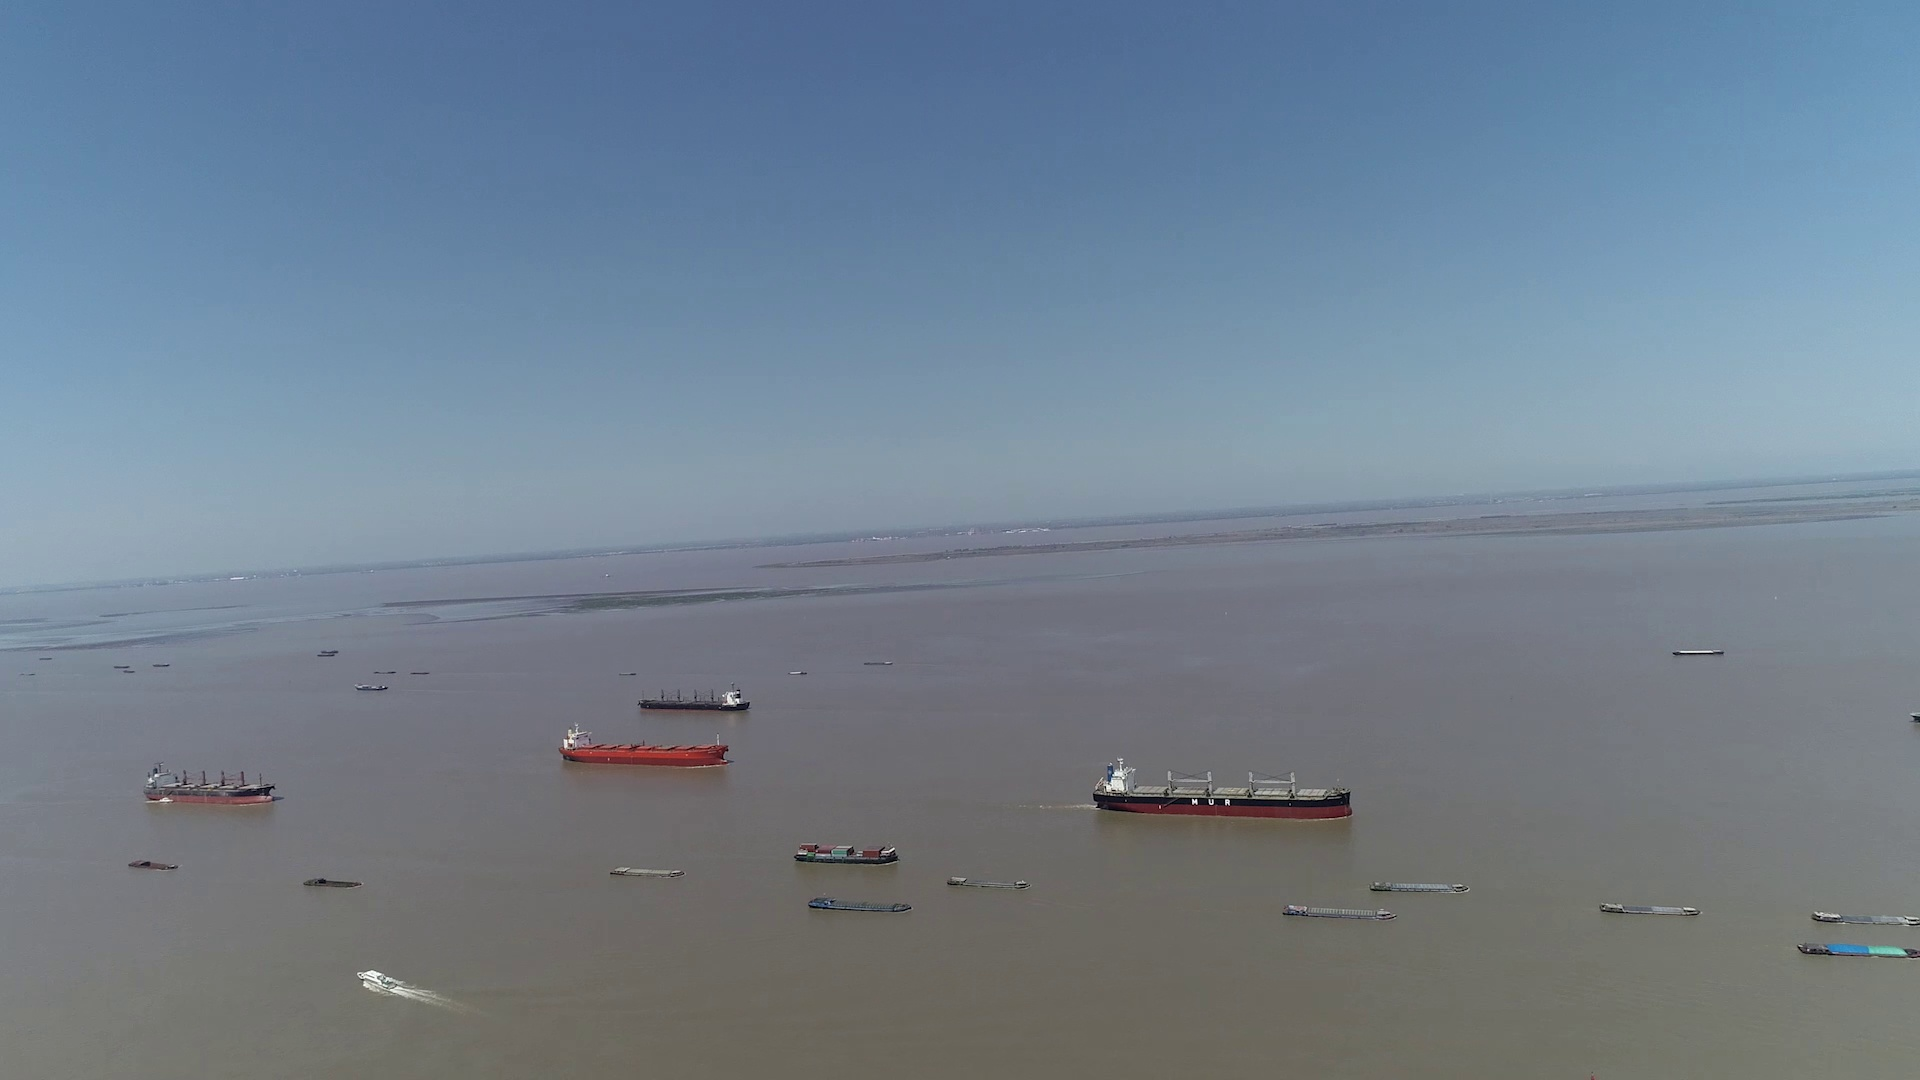ship: (1093, 754, 1354, 822), (556, 725, 727, 767), (142, 760, 277, 804), (640, 684, 750, 709), (793, 843, 898, 866), (1797, 942, 1920, 959), (1280, 903, 1395, 920), (1811, 910, 1915, 928), (807, 895, 913, 913), (1598, 899, 1701, 916), (357, 969, 427, 994), (1369, 877, 1466, 893), (945, 874, 1030, 890), (609, 862, 686, 878), (305, 877, 360, 890), (127, 858, 177, 872), (1672, 647, 1724, 655), (352, 680, 392, 690)
